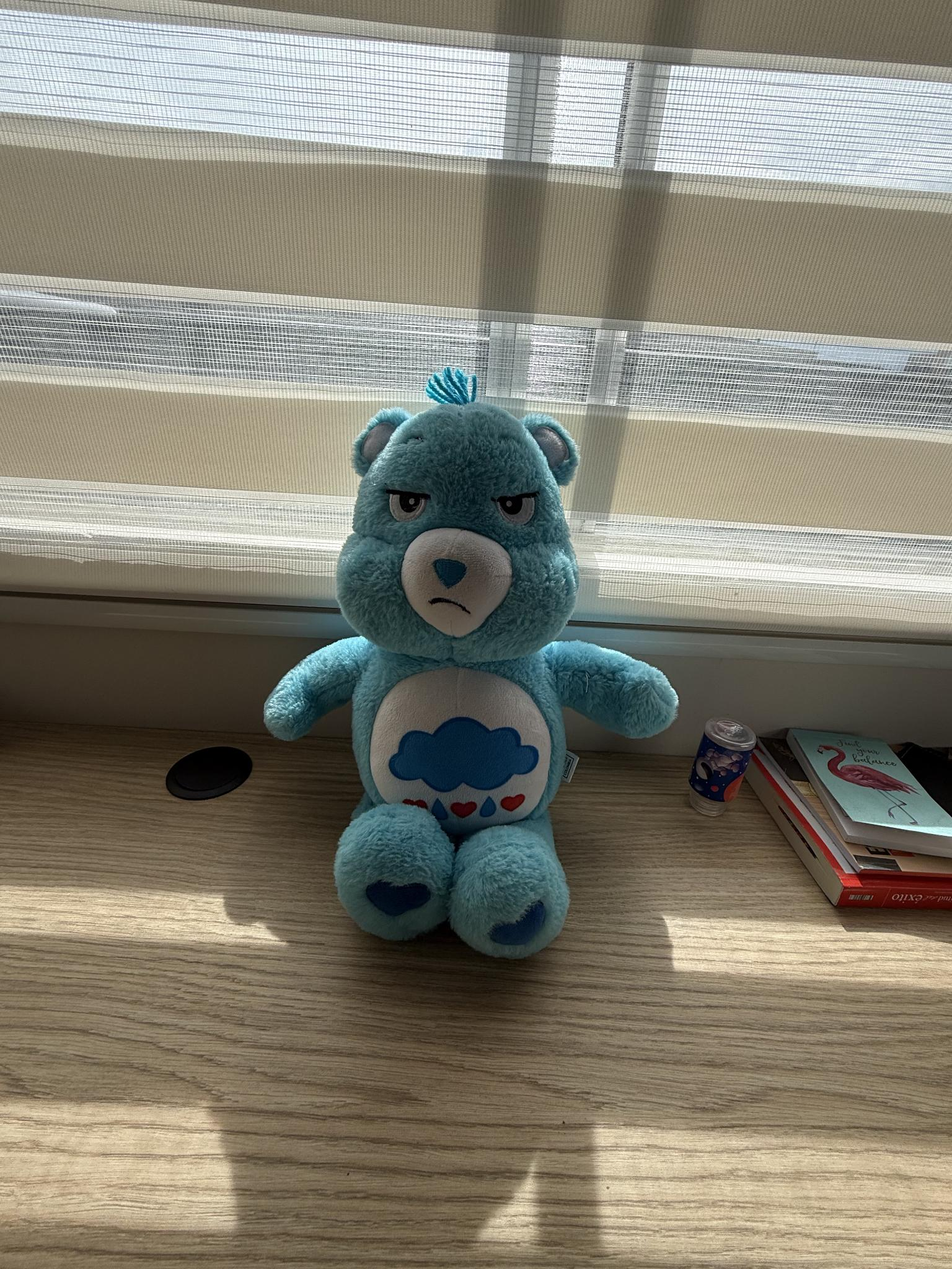peluche_Juan Jose: (305, 384, 644, 976)
